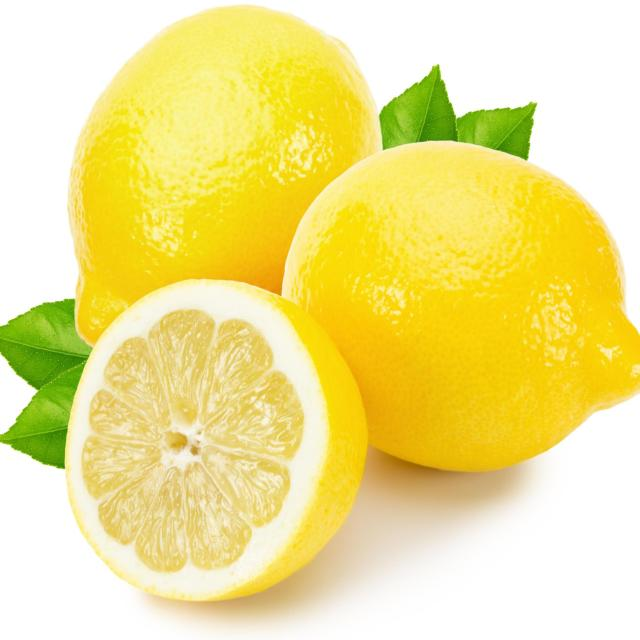lemon: (277, 134, 640, 478), (57, 273, 380, 608)
